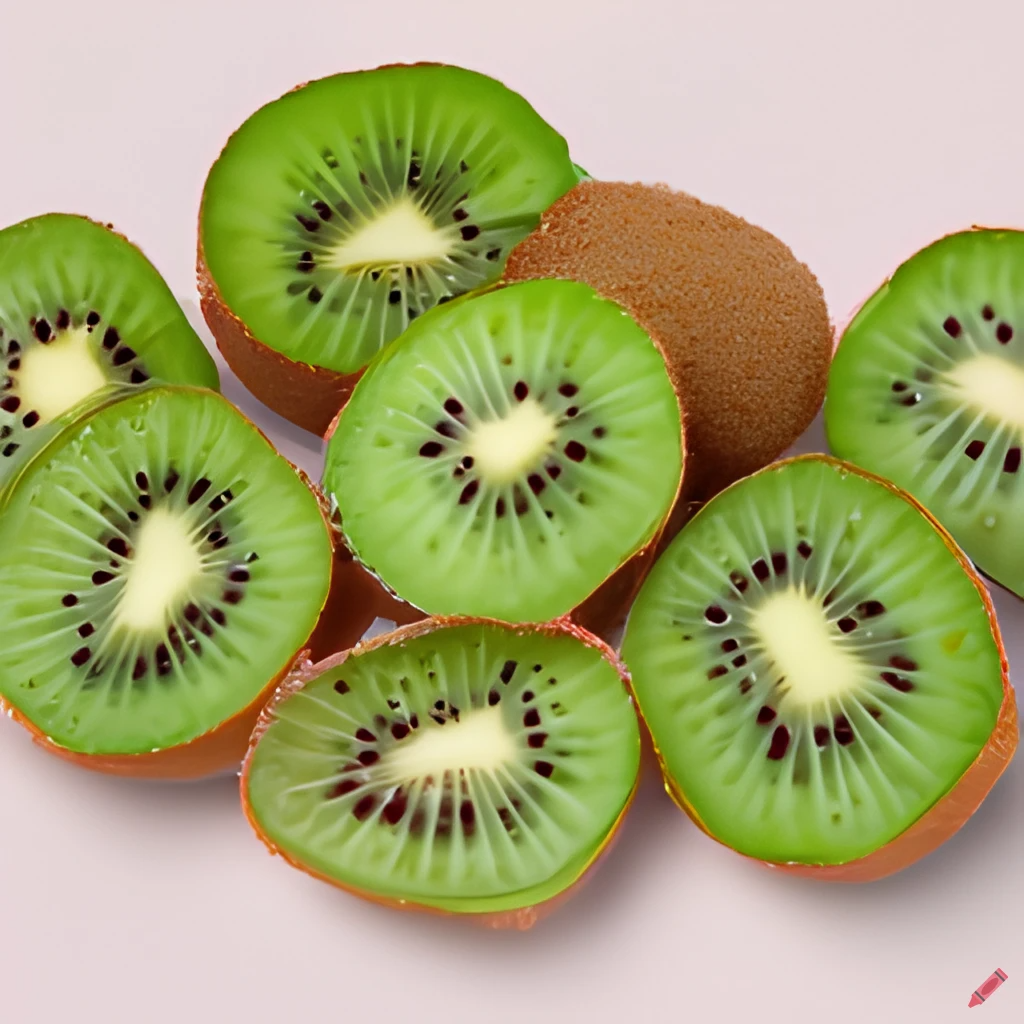Kiwi: (479, 155, 848, 462)
